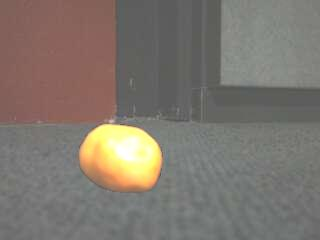Potato: (78, 123, 163, 194)
